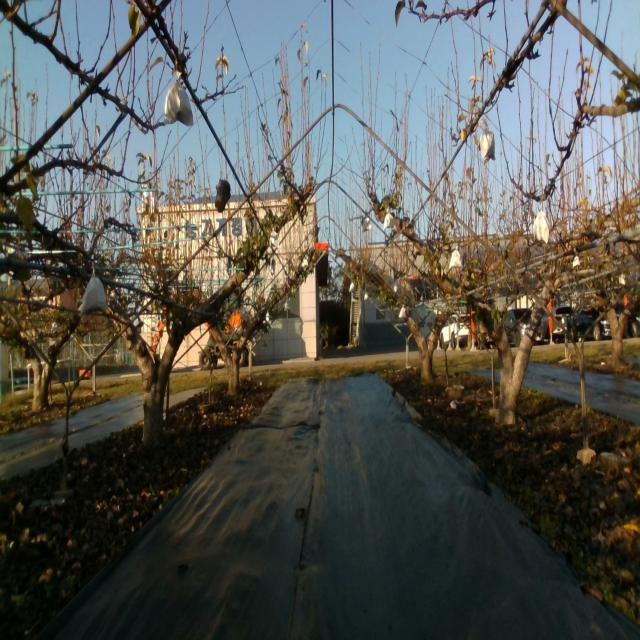pearbags: (162, 74, 194, 127), (79, 268, 110, 316), (480, 118, 495, 162), (532, 211, 550, 245), (448, 247, 462, 272), (270, 228, 280, 248)
